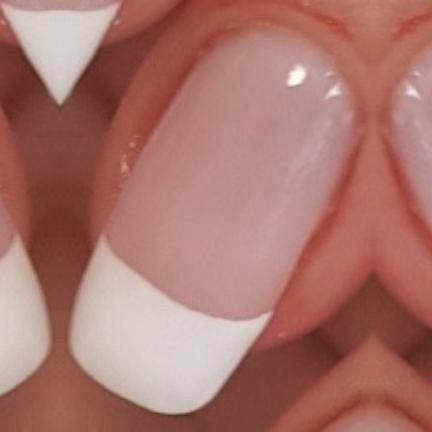Nail: (66, 27, 353, 415), (0, 198, 52, 394), (392, 45, 432, 232)
